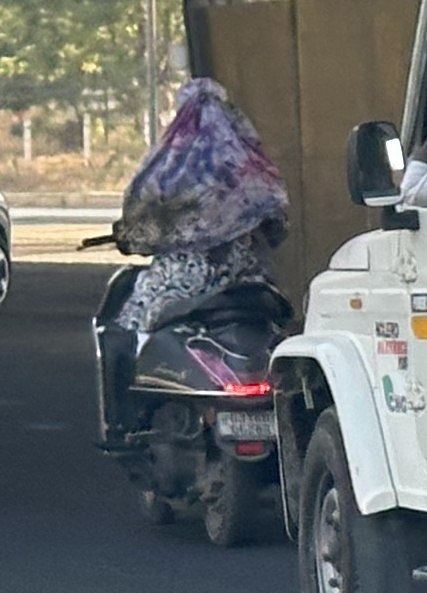BikeWithRider: (66, 70, 317, 555)
NoHelmet: (165, 74, 244, 138)
